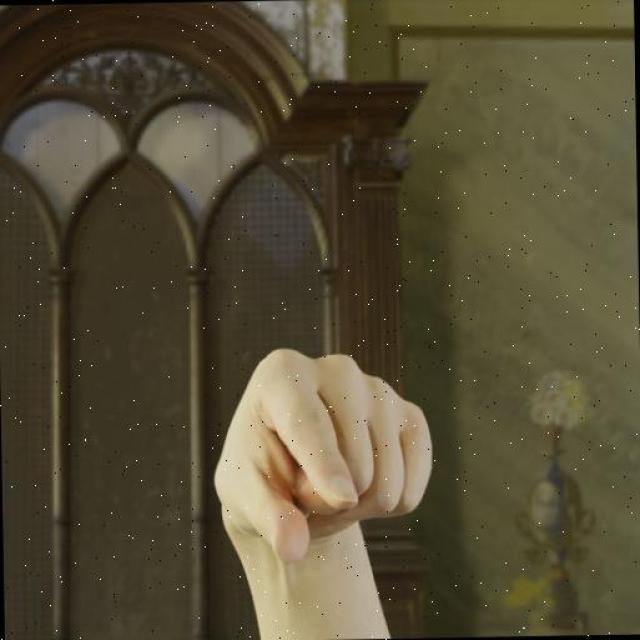Q: (207, 343, 440, 571)
